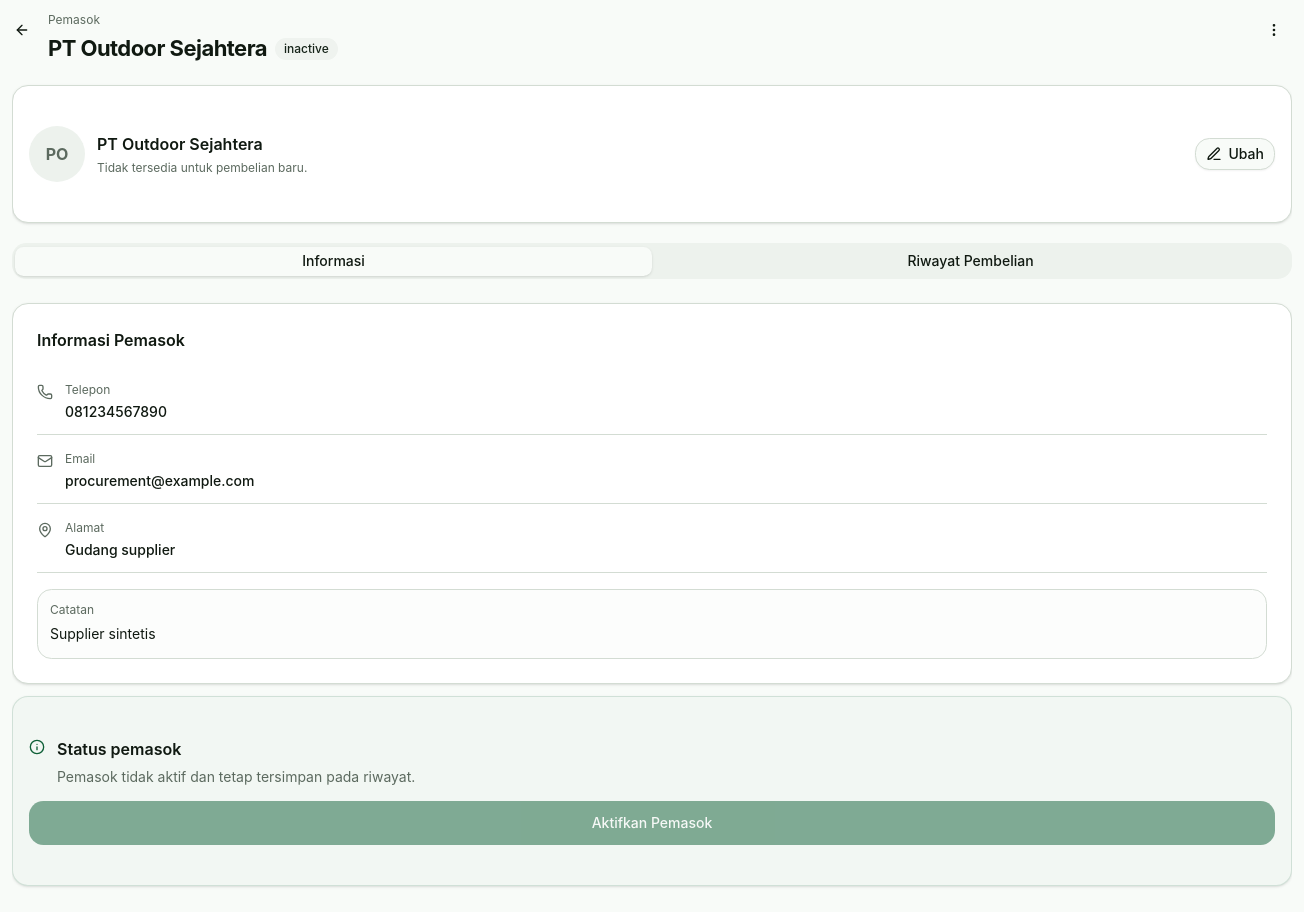
Test case: Pemasok & Pembelian read-side › supplier detail keeps purchase history visible for inactive-capable master
This screenshot has width=1304, height=912.
Check: the heading "PT Outdoor Sejahtera" is shown, box left=48, top=32, right=267, bottom=65
Check: the text "inactive" is shown, box left=275, top=38, right=338, bottom=60
Click the tab "Riwayat Pembelian": (970, 261) left=652, top=246, right=1289, bottom=276
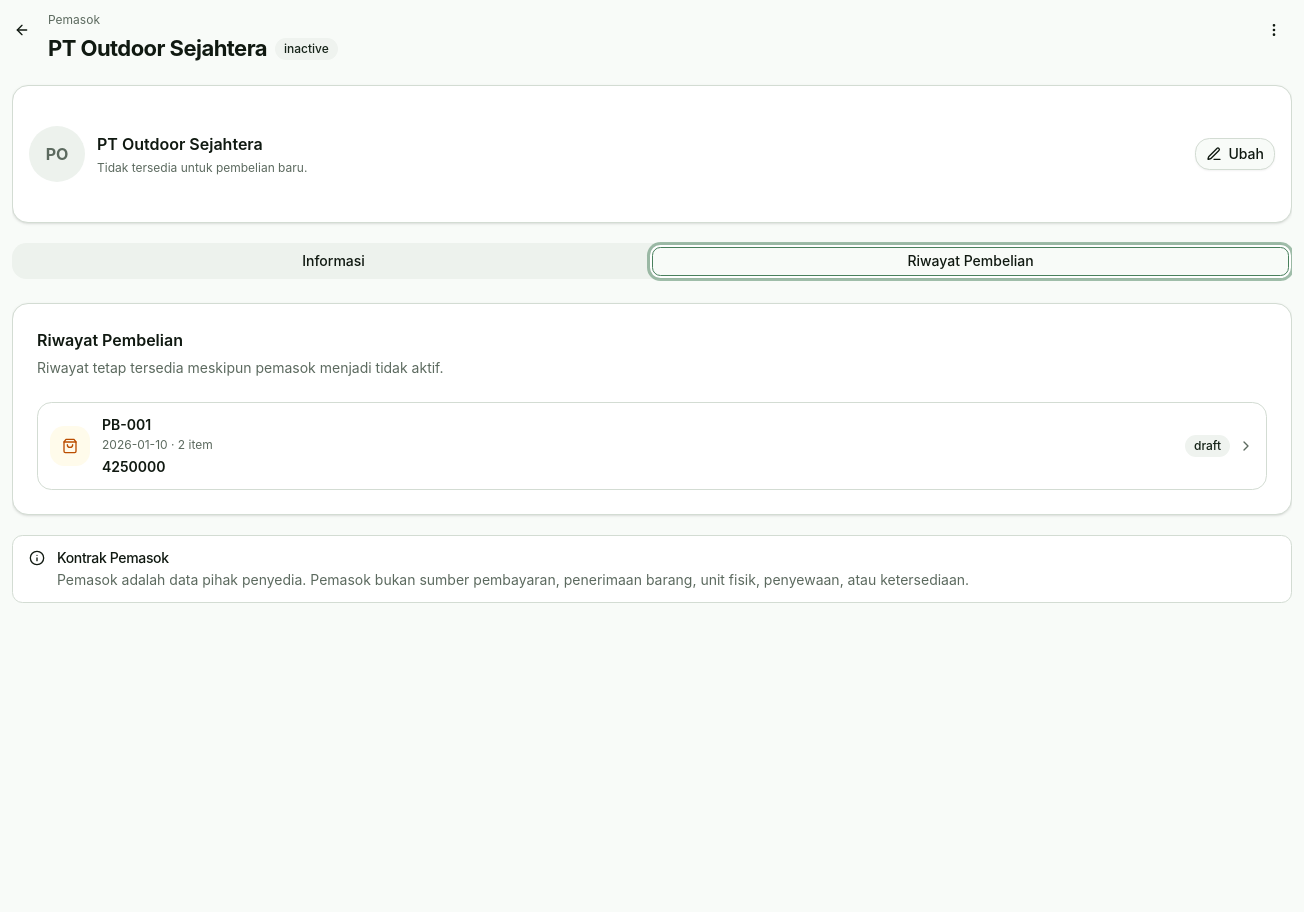
Check: the text "PB-001" is shown, box left=102, top=416, right=151, bottom=433
